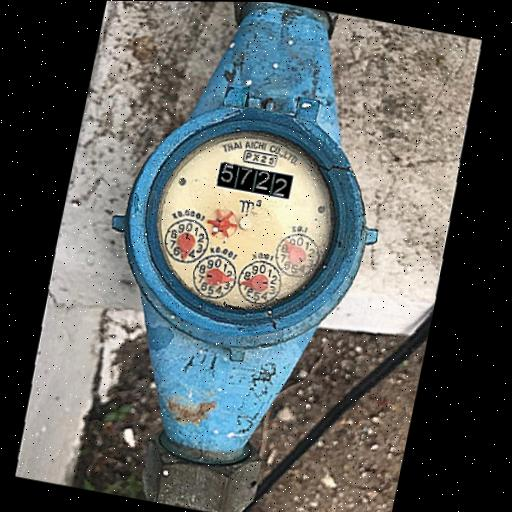2: (270, 173, 293, 199), (253, 169, 274, 195)
5: (216, 162, 239, 189)
7: (234, 165, 256, 192)
border_water_meter_number: (215, 161, 294, 200)
